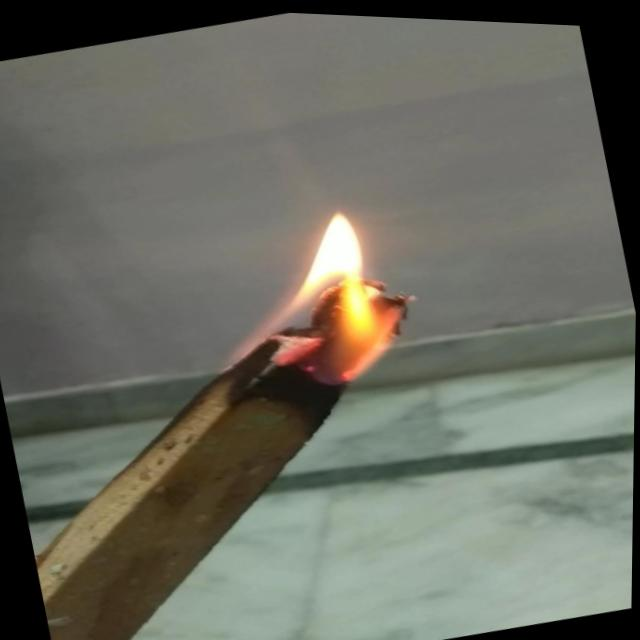fire: (200, 180, 453, 405)
